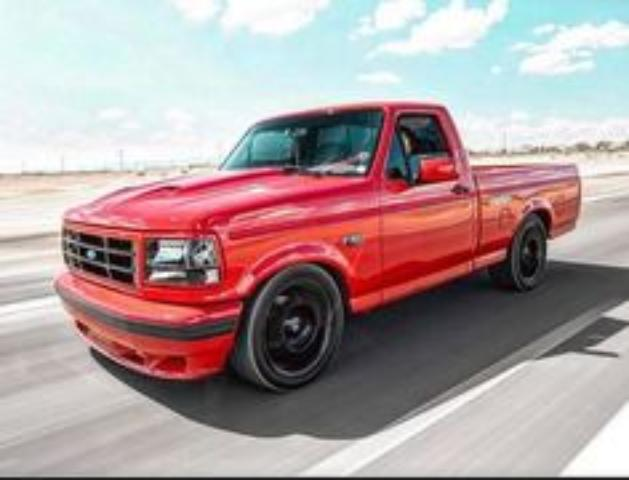pickup-truck: (53, 100, 584, 393)
